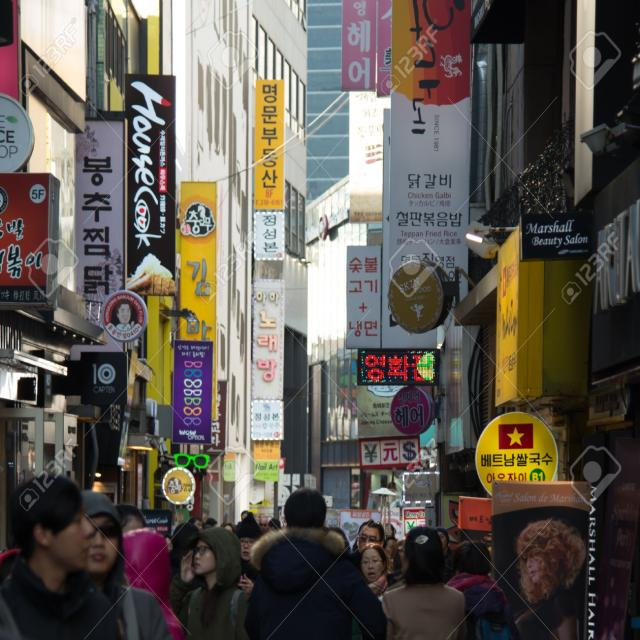body: (240, 486, 390, 640), (0, 471, 125, 640), (77, 488, 174, 640), (381, 525, 466, 639), (506, 520, 586, 640), (174, 525, 255, 640), (444, 538, 521, 640), (120, 526, 185, 639), (355, 542, 399, 606), (234, 510, 264, 594), (186, 512, 289, 534), (349, 519, 385, 566), (432, 526, 457, 585), (382, 522, 404, 574), (108, 298, 138, 334), (316, 522, 352, 550), (113, 504, 142, 525)
